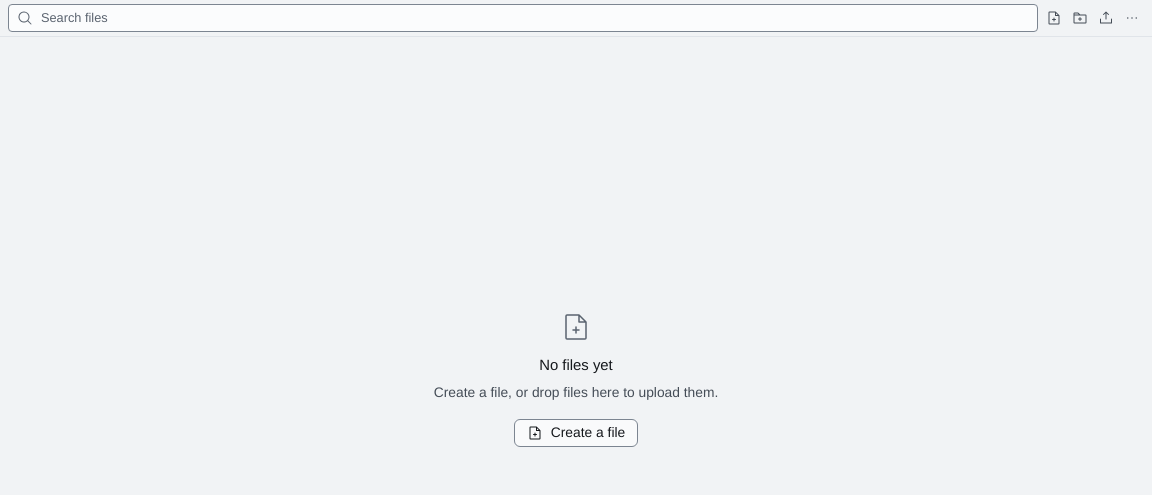
Test case: creating › refuses an invalid name without contacting the server
Expected: the text "No files yet" is shown, [539,354,613,374]
Step 1. Click the button named "New file" → (1054, 18), box [1042,6,1066,30]
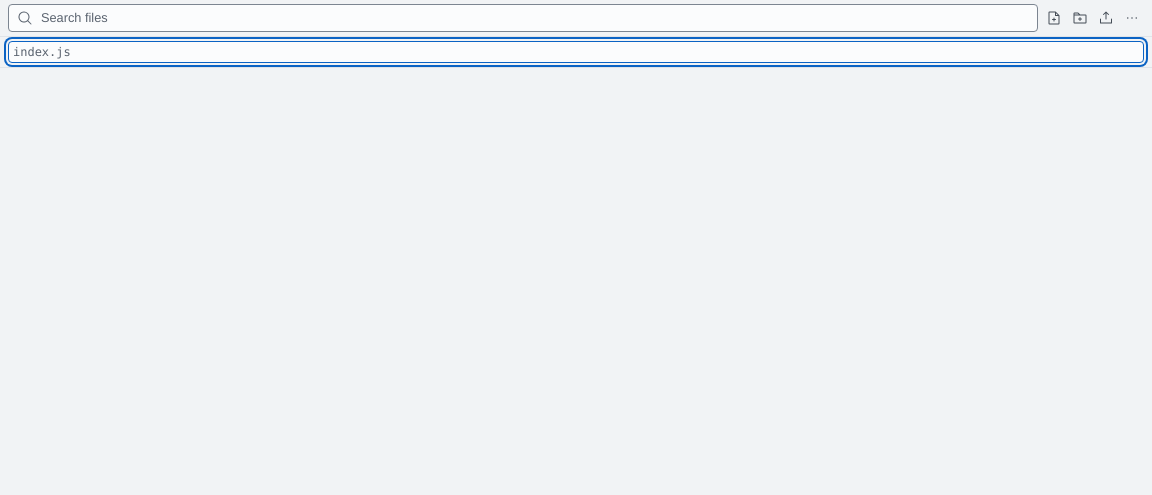
Step 2. Type "../escape.txt" into the field named "New file name" → (576, 52), box [8,41,1144,63]
Then press Enter
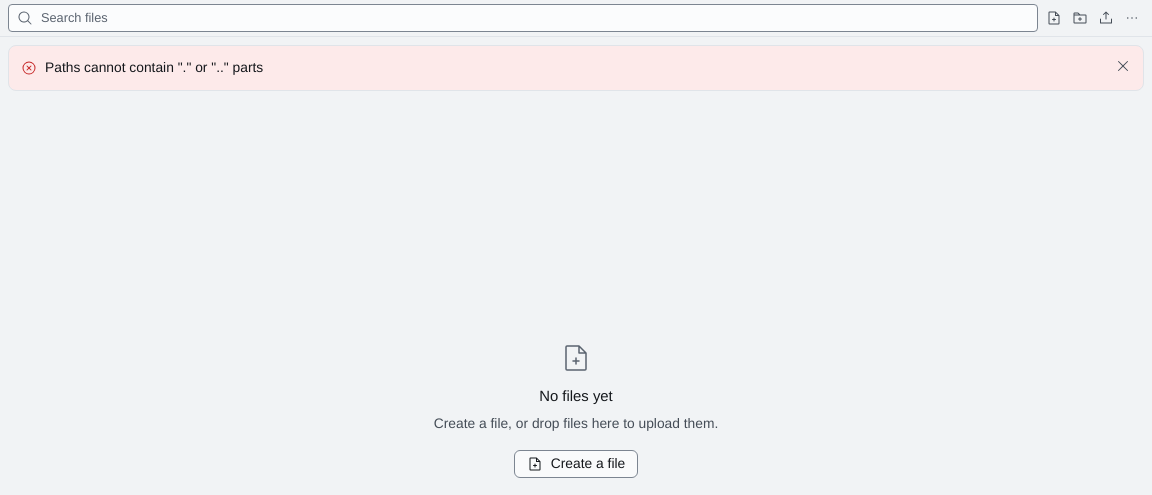
Now the message shows "cannot contain", box [45,59,263,76]
